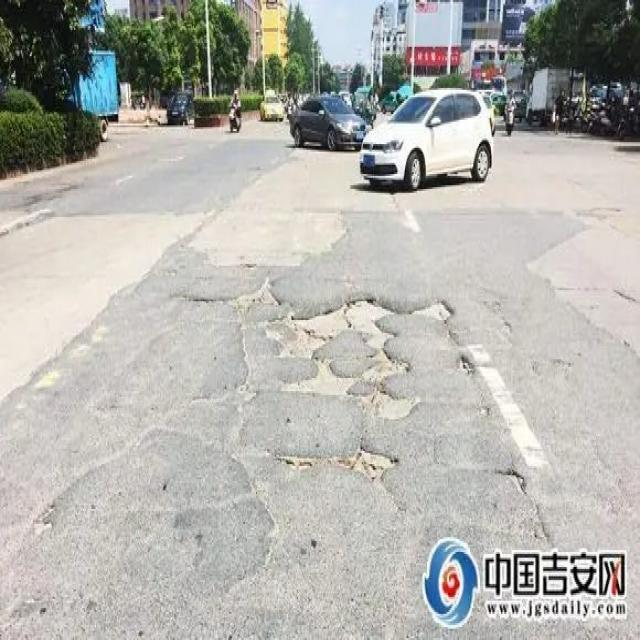Pothole: (186, 262, 484, 429), (272, 440, 398, 490), (495, 458, 531, 502)
